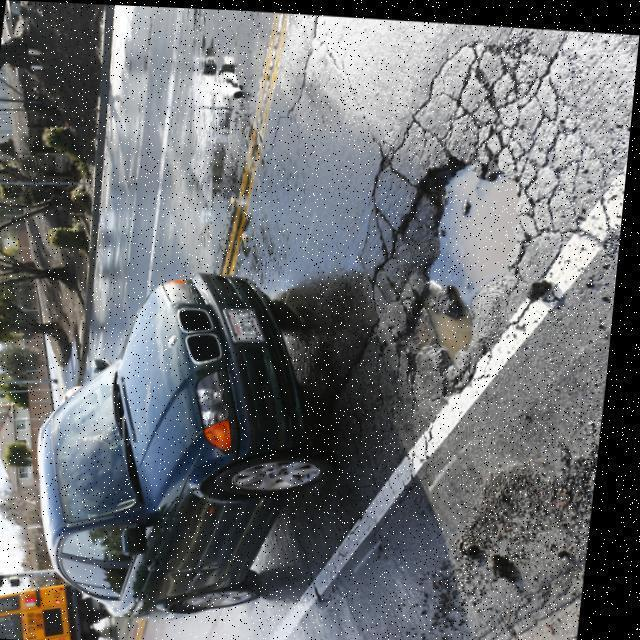Pothole: (371, 154, 533, 403)
